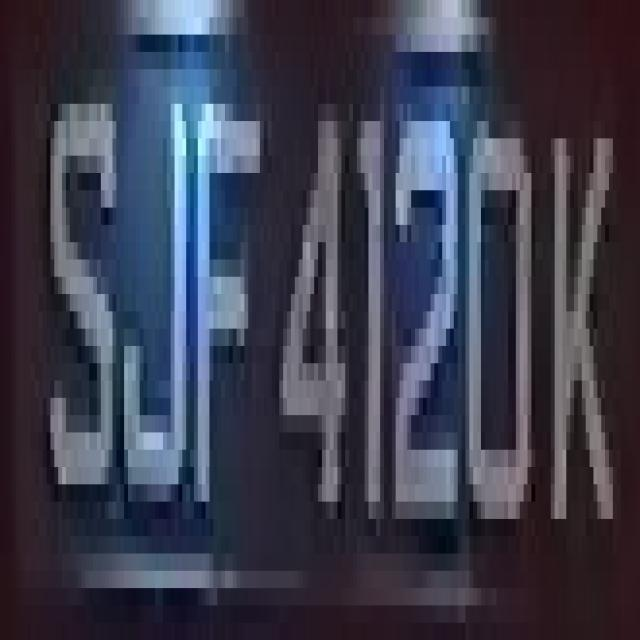0: (458, 87, 539, 588)
1: (357, 52, 388, 571)
2: (388, 70, 465, 606)
4: (275, 34, 361, 570)
F: (190, 52, 260, 588)
J: (112, 52, 194, 502)
K: (539, 70, 617, 606)
S: (39, 69, 124, 554)
